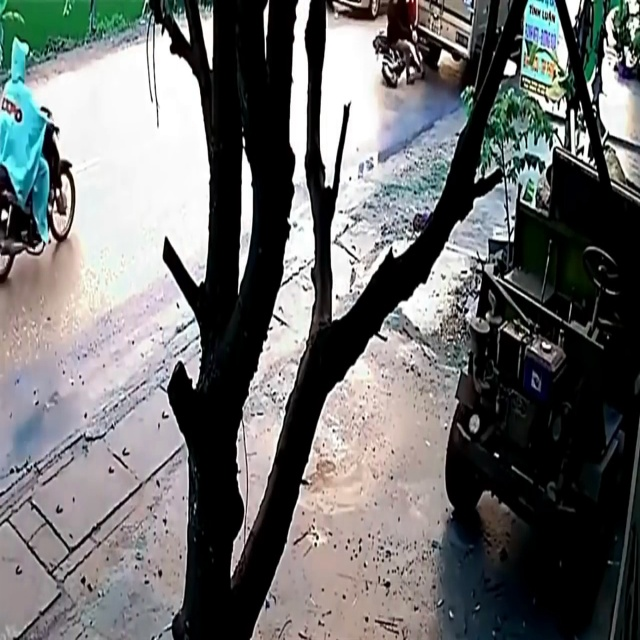acc: (360, 8, 445, 95)
